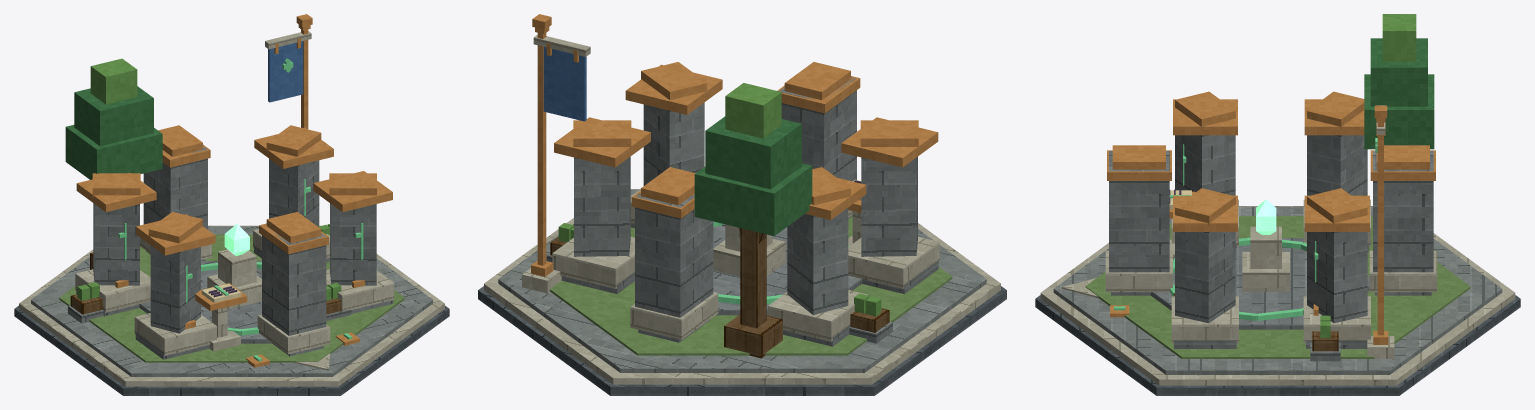
Rendered from dwarf_druidic_circle_hex_v1.glb.
3 views of the same model, side by side, from view 1: azimuth 30°, elevation 25°; view 2: azimuth 150°, elevation 25°; view 3: azimuth 270°, elevation 25° (orthographic). The views are drawn at different scales.
Parts seen in each view (by area): view 1: Dwarf_Druidic_Circle_Hex_V1_Hall, Dwarf_Druidic_Circle_Hex_V1_Foundation, Dwarf_Druidic_Circle_Hex_V1_Focus, Dwarf_Druidic_Circle_Hex_V1_Courtyard, Dwarf_Druidic_Circle_Hex_V1_Roofs, Dwarf_Druidic_Circle_Hex_V1_Faction, Dwarf_Druidic_Circle_Hex_V1_Details, Dwarf_Druidic_Circle_Hex_V1_Training; view 2: Dwarf_Druidic_Circle_Hex_V1_Hall, Dwarf_Druidic_Circle_Hex_V1_Foundation, Dwarf_Druidic_Circle_Hex_V1_Focus, Dwarf_Druidic_Circle_Hex_V1_Courtyard, Dwarf_Druidic_Circle_Hex_V1_Roofs, Dwarf_Druidic_Circle_Hex_V1_Faction, Dwarf_Druidic_Circle_Hex_V1_Details, Dwarf_Druidic_Circle_Hex_V1_Training; view 3: Dwarf_Druidic_Circle_Hex_V1_Hall, Dwarf_Druidic_Circle_Hex_V1_Foundation, Dwarf_Druidic_Circle_Hex_V1_Courtyard, Dwarf_Druidic_Circle_Hex_V1_Focus, Dwarf_Druidic_Circle_Hex_V1_Roofs, Dwarf_Druidic_Circle_Hex_V1_Faction, Dwarf_Druidic_Circle_Hex_V1_Details, Dwarf_Druidic_Circle_Hex_V1_Training.
Boxes of the visible parts, x1,y1,x2,y2 form: Dwarf_Druidic_Circle_Hex_V1_Hall: (75,127,394,359); Dwarf_Druidic_Circle_Hex_V1_Foundation: (14,225,449,395); Dwarf_Druidic_Circle_Hex_V1_Focus: (65,58,363,309); Dwarf_Druidic_Circle_Hex_V1_Courtyard: (59,234,404,370); Dwarf_Druidic_Circle_Hex_V1_Roofs: (92,125,376,243); Dwarf_Druidic_Circle_Hex_V1_Faction: (265,14,312,129); Dwarf_Druidic_Circle_Hex_V1_Details: (68,224,365,367); Dwarf_Druidic_Circle_Hex_V1_Training: (195,262,261,351); Dwarf_Druidic_Circle_Hex_V1_Hall: (552,64,939,346); Dwarf_Druidic_Circle_Hex_V1_Foundation: (478,189,1006,395); Dwarf_Druidic_Circle_Hex_V1_Focus: (694,83,812,358); Dwarf_Druidic_Circle_Hex_V1_Courtyard: (550,216,952,355); Dwarf_Druidic_Circle_Hex_V1_Roofs: (573,62,918,205); Dwarf_Druidic_Circle_Hex_V1_Faction: (522,14,590,293); Dwarf_Druidic_Circle_Hex_V1_Details: (546,223,892,343); Dwarf_Druidic_Circle_Hex_V1_Training: (713,179,861,304); Dwarf_Druidic_Circle_Hex_V1_Hall: (1105,99,1436,348); Dwarf_Druidic_Circle_Hex_V1_Foundation: (1035,206,1520,395); Dwarf_Druidic_Circle_Hex_V1_Courtyard: (1061,216,1470,358); Dwarf_Druidic_Circle_Hex_V1_Focus: (1183,14,1434,291); Dwarf_Druidic_Circle_Hex_V1_Roofs: (1112,91,1429,226); Dwarf_Druidic_Circle_Hex_V1_Faction: (1367,105,1394,358); Dwarf_Druidic_Circle_Hex_V1_Details: (1110,293,1340,361); Dwarf_Druidic_Circle_Hex_V1_Training: (1169,189,1306,320).
Size of the model in its own units: 1.59 by 1.1 by 1.84.
1 material, 1 textured.
